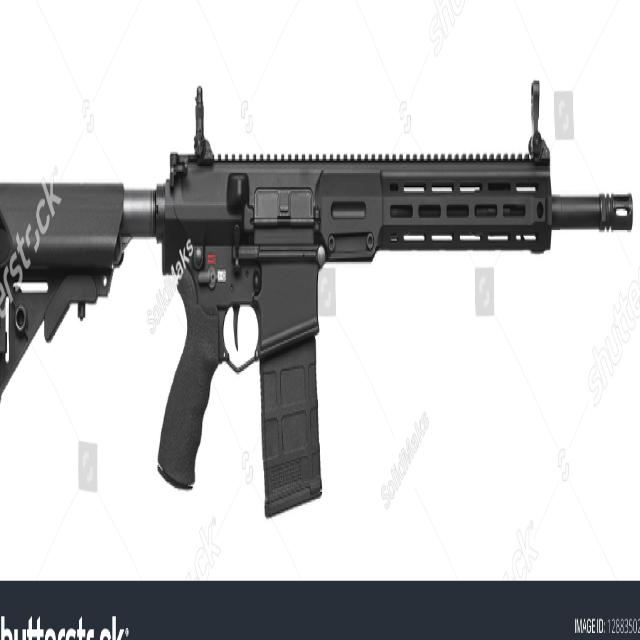Weapon: (0, 81, 633, 516)
